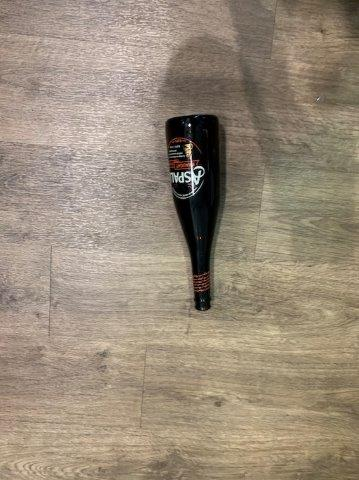botolkaca: (165, 115, 218, 311)
